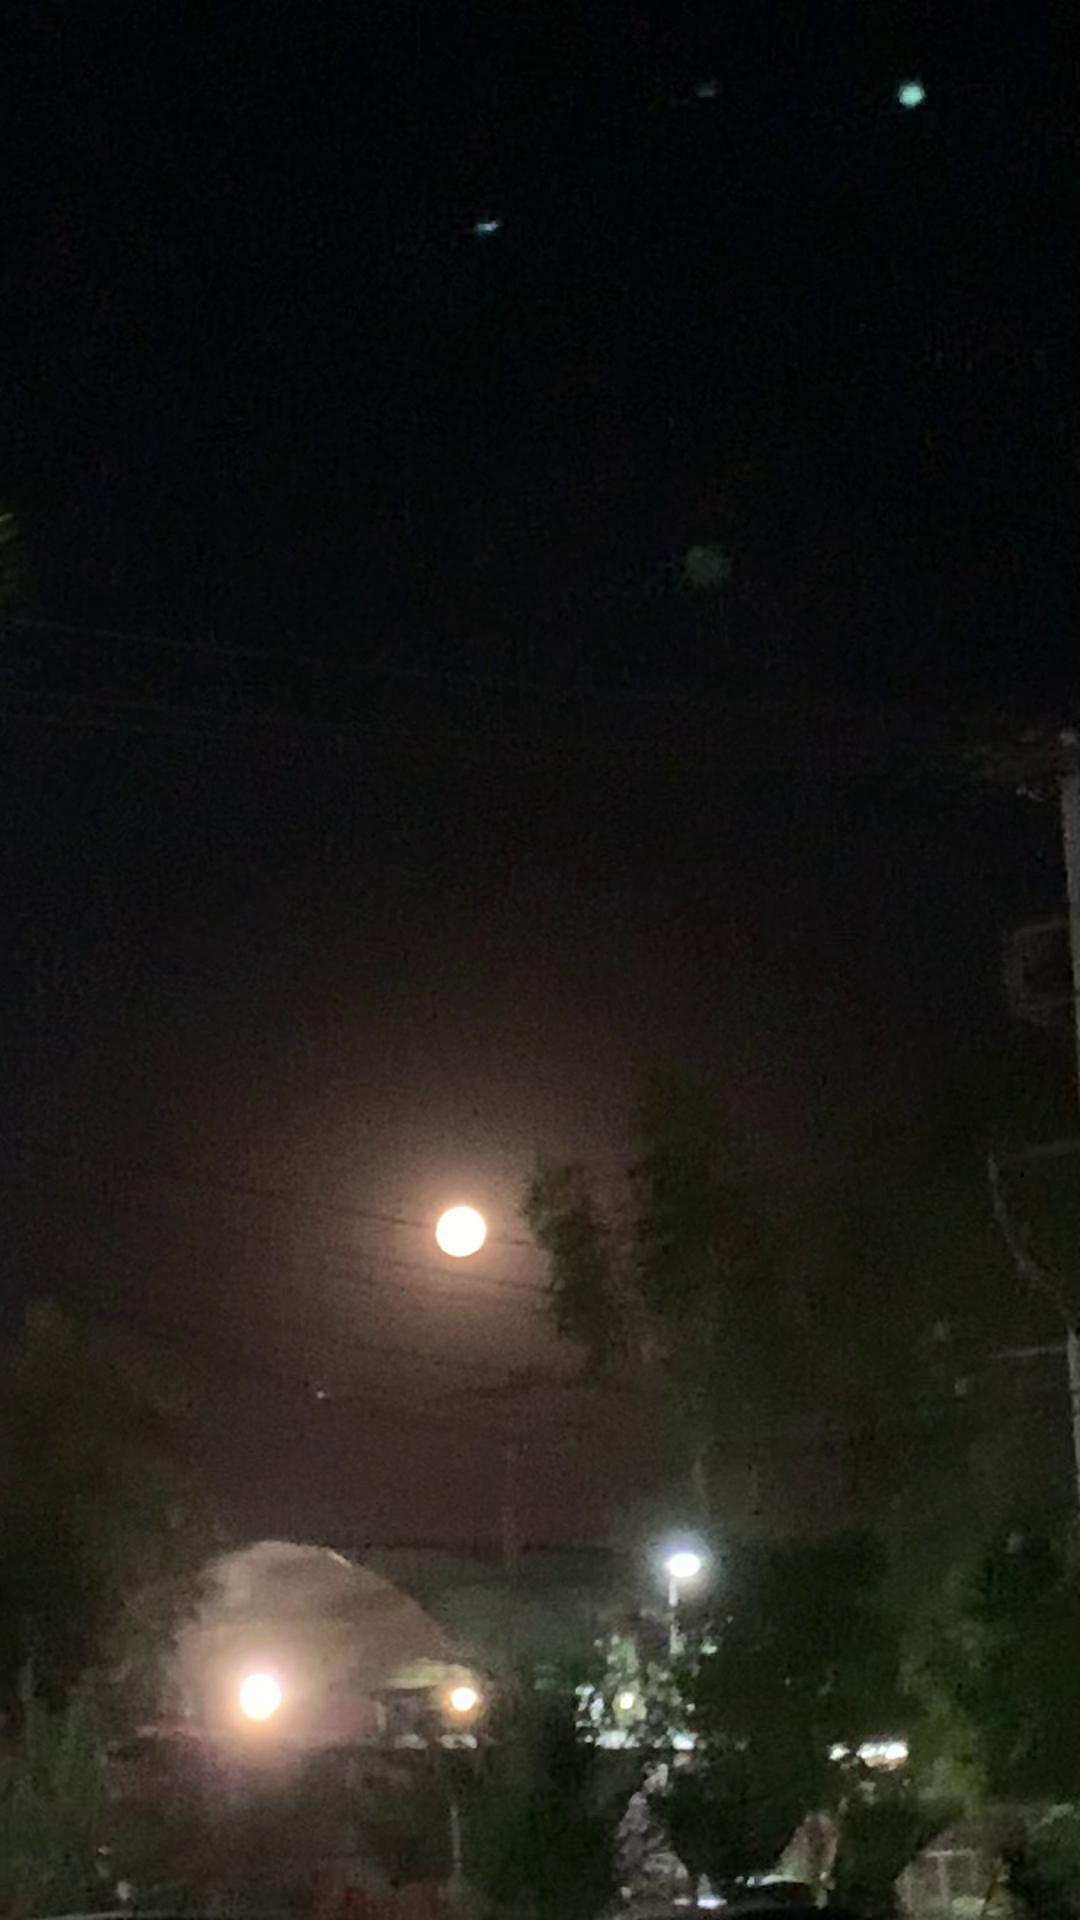moon: (410, 1183, 498, 1259)
